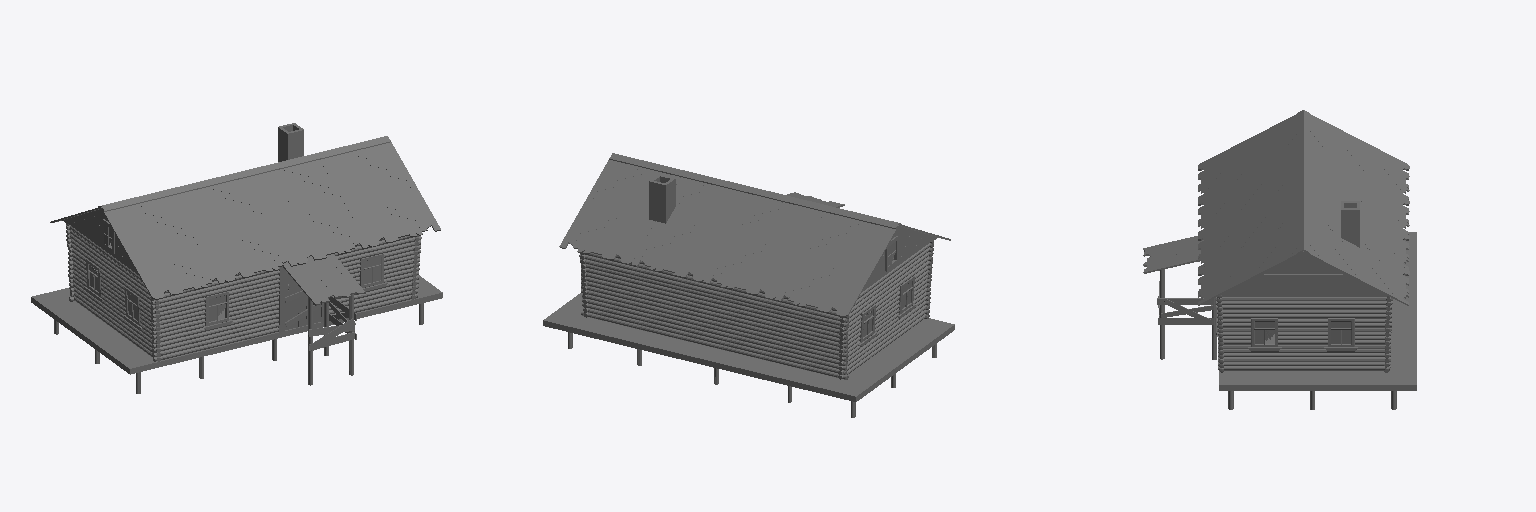
The model's file is house_all_OBJ.obj.
The picture shows the model from 3 angles: view 1: azimuth 30°, elevation 25°; view 2: azimuth 150°, elevation 25°; view 3: azimuth 270°, elevation 25°; orthographic projection.
Parts seen in each view (by area): view 1: roof, Walls, floor, Windowdoorframe, Glass; view 2: roof, Walls, floor, Windowdoorframe; view 3: roof, Walls, floor, Windowdoorframe, Glass.
Boxes of the visible parts, box(x1,y1,x2,y2) form: roof: box(50, 123, 440, 299); Walls: box(66, 224, 421, 361); floor: box(31, 271, 442, 393); Windowdoorframe: box(73, 136, 390, 339); Glass: box(89, 224, 380, 321); roof: box(559, 160, 950, 316); Walls: box(579, 241, 933, 379); floor: box(543, 293, 954, 417); Windowdoorframe: box(609, 153, 927, 346); roof: box(1198, 114, 1409, 305); Walls: box(1216, 295, 1392, 372); floor: box(1157, 232, 1416, 409); Windowdoorframe: box(1143, 110, 1358, 351); Glass: box(1255, 322, 1350, 343).
Bounding box in the file's own units: 3.69 × 1.91 × 2.79.